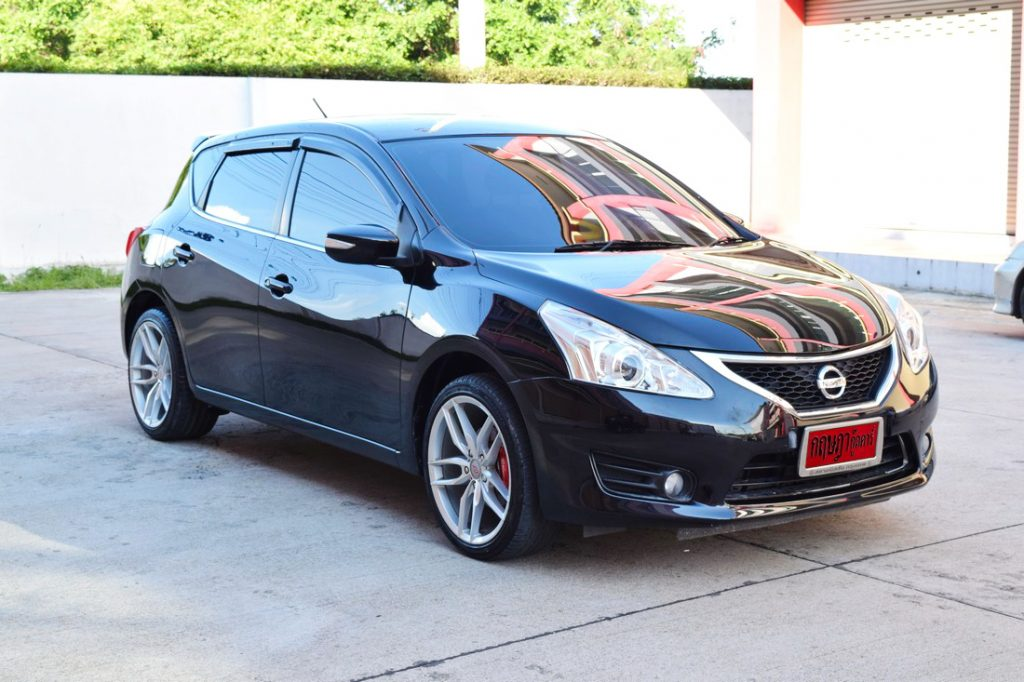sedan: (116, 112, 944, 561)
